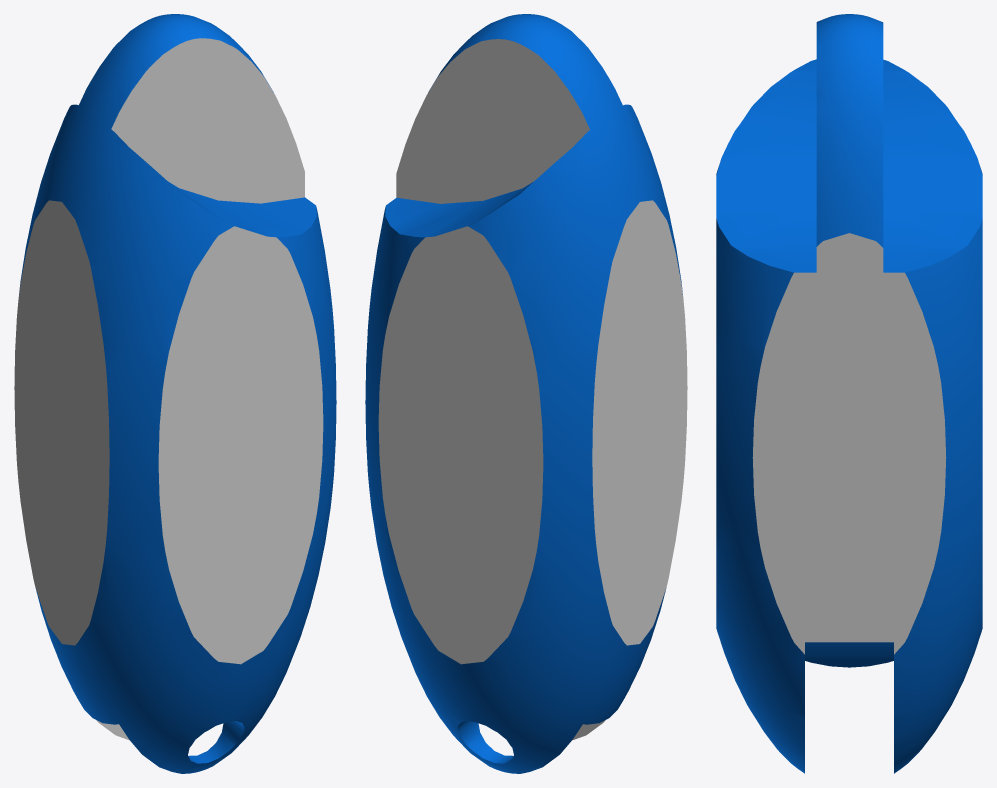
Rendered from round-finger-8.glb.
The picture shows the model from 3 angles, left to right: view 1: azimuth 30°, elevation 25°; view 2: azimuth 150°, elevation 25°; view 3: azimuth 270°, elevation 25°; orthographic projection.
Visible parts, largest first — view 1: EndPhalange; view 2: EndPhalange; view 3: EndPhalange.
Boxes of the visible parts, box(x1,y1,x2,y2) form: EndPhalange: box(14, 14, 336, 773); EndPhalange: box(365, 14, 687, 773); EndPhalange: box(716, 14, 982, 773).
Bounding box in the file's own units: 0.3 × 0.9301 × 0.3.
